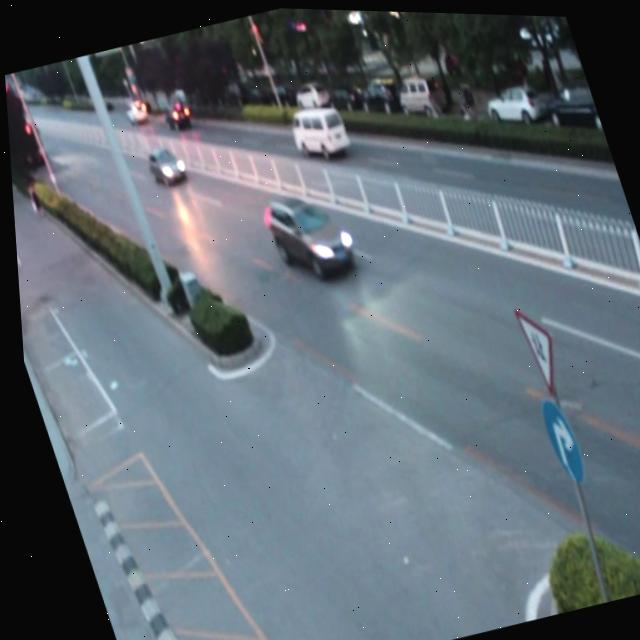car: (252, 179, 357, 291), (140, 138, 187, 189), (158, 93, 188, 126)
truck: (282, 96, 350, 164)
